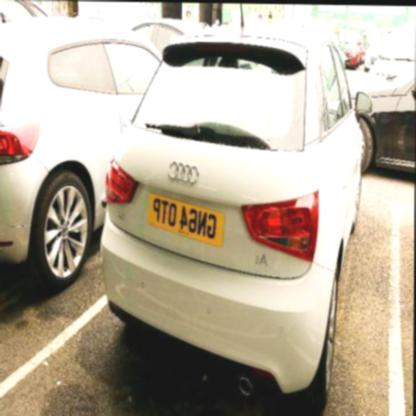License_Plate: (147, 191, 225, 247)
